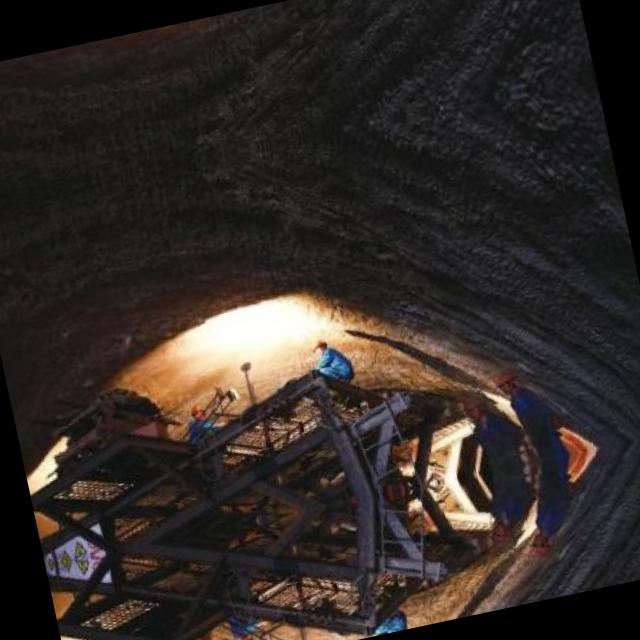helmet: (487, 366, 515, 396), (522, 531, 550, 561), (459, 392, 485, 419), (487, 521, 512, 549), (186, 398, 206, 423), (308, 336, 328, 358), (235, 629, 255, 640)
